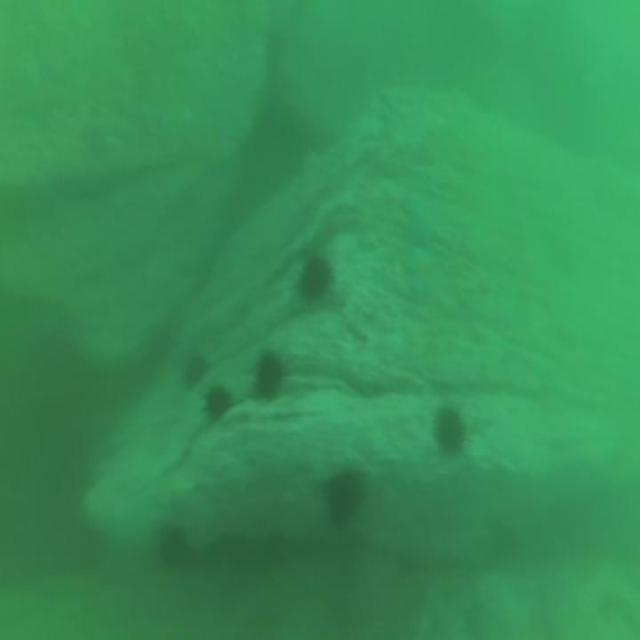echinus: (328, 471, 360, 532), (256, 349, 283, 394), (433, 406, 460, 450), (157, 528, 185, 566), (301, 261, 328, 300), (206, 388, 228, 420)
starfish: (404, 246, 438, 294), (404, 204, 433, 245)
